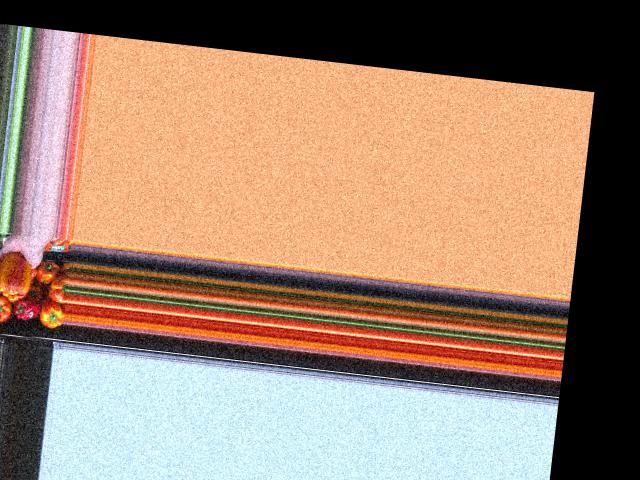bell_pepper: (33, 262, 62, 285)
